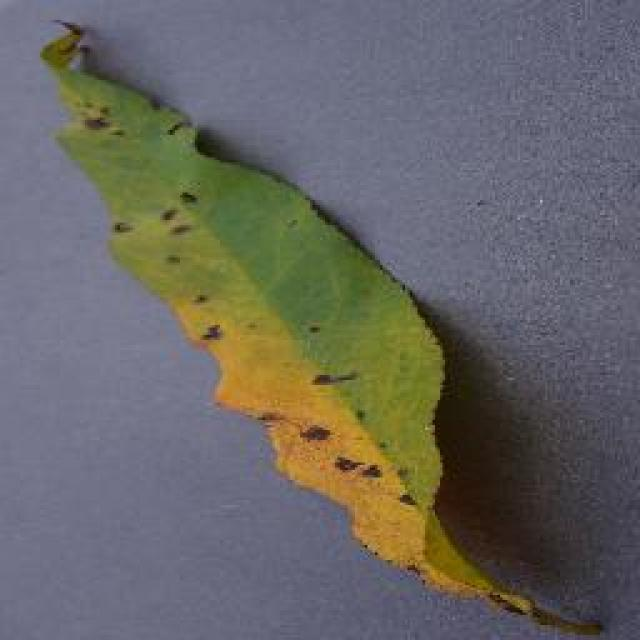Peach_Bacterial_Spot: (95, 41, 435, 506)
